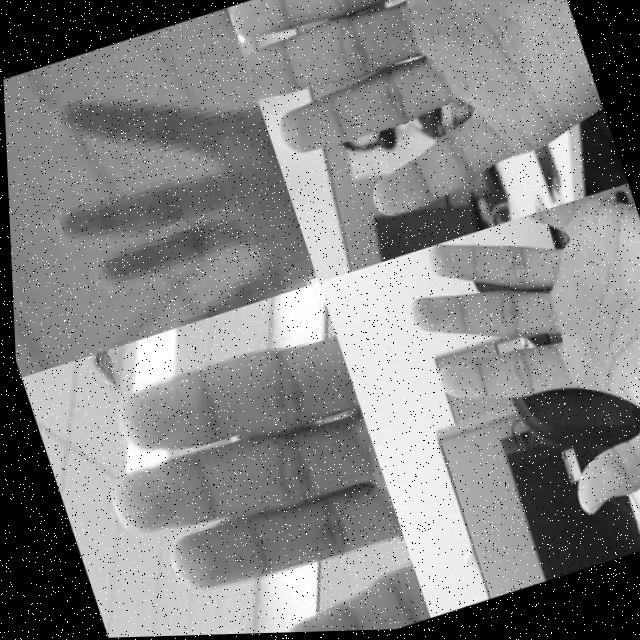no-gloves: (54, 282, 423, 639), (0, 7, 316, 358), (225, 0, 618, 251), (384, 186, 640, 556)
